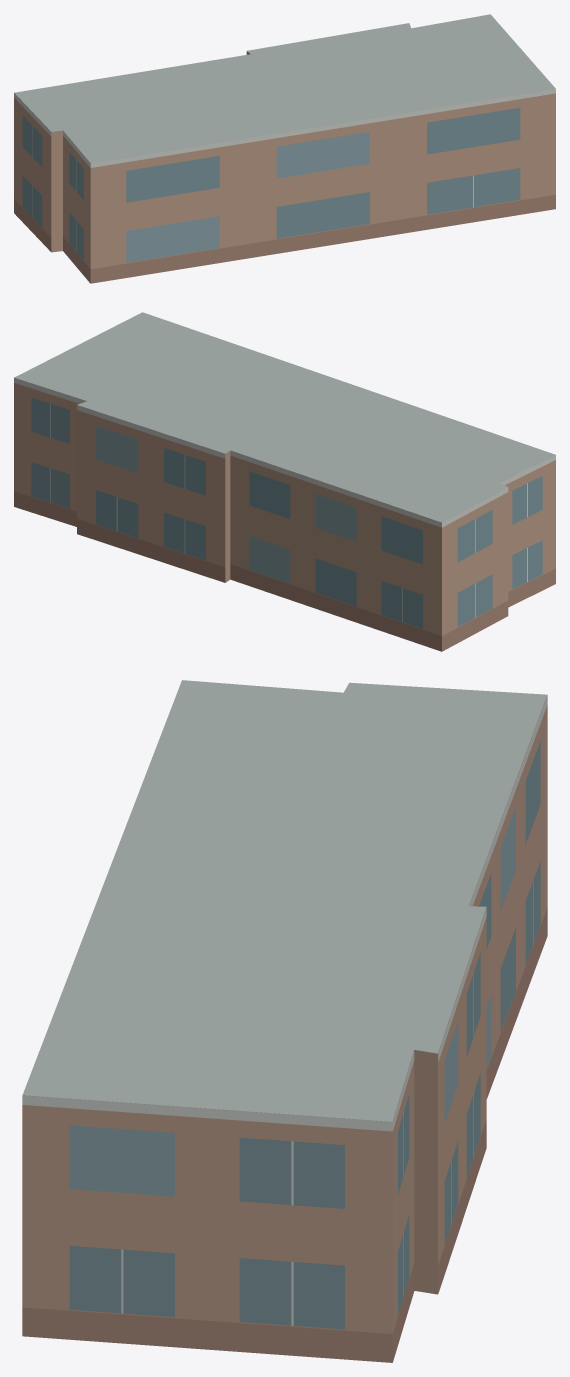
File: survey-upis-32478212.glb
3 renders of one model, top to bottom at view 1: azimuth 30°, elevation 25°; view 2: azimuth 150°, elevation 25°; view 3: azimuth 270°, elevation 25°, orthographic. The views are drawn at different scales.
Parts seen in each view (by area): view 1: survey-upis-32478212.tmp; view 2: survey-upis-32478212.tmp; view 3: survey-upis-32478212.tmp.
Part boxes in pixels (<box>): survey-upis-32478212.tmp: <box>14,14,555,283</box>; survey-upis-32478212.tmp: <box>14,312,555,651</box>; survey-upis-32478212.tmp: <box>22,680,547,1362</box>.
Size of the model in its own units: 24 by 6.1 by 12.06.
